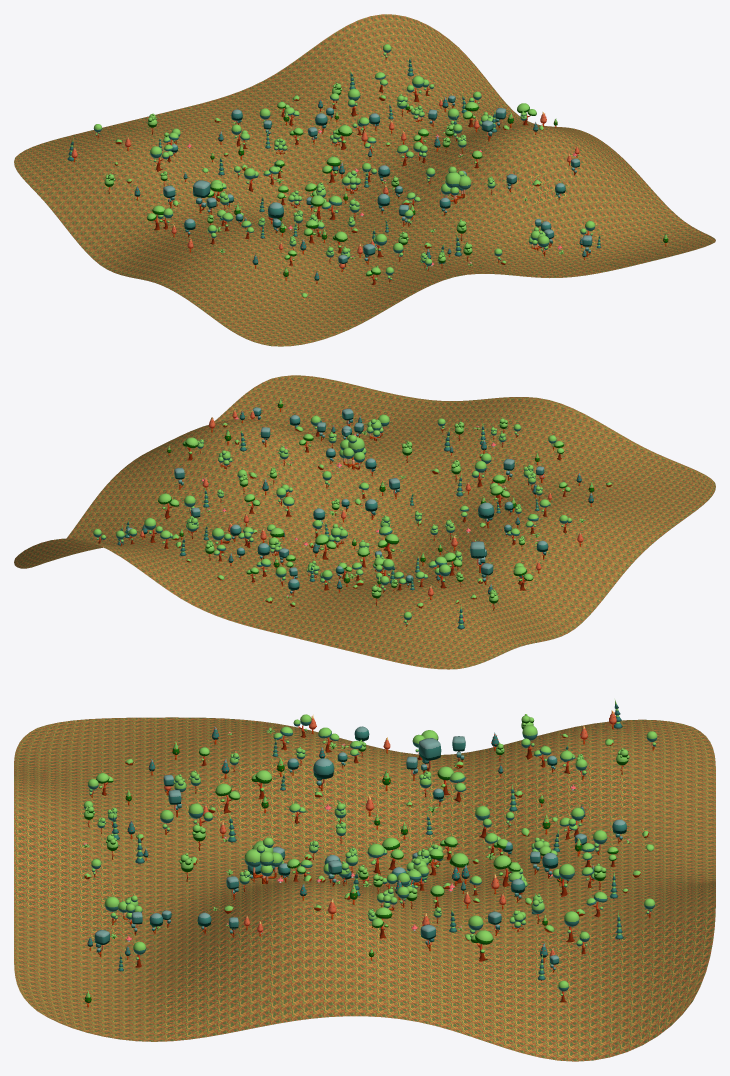
File: world3.glb
The picture shows the model from 3 angles, top to bottom: view 1: azimuth 30°, elevation 25°; view 2: azimuth 150°, elevation 25°; view 3: azimuth 270°, elevation 25°; orthographic projection. The views are drawn at different scales.
Visible parts, largest first — view 1: Plane, Tree.348; view 2: Plane, Tree.348; view 3: Plane, Tree.348.
Boxes of the visible parts, x1,y1,x2,y2 form: Plane: (14,14,715,346); Tree.348: (441,166,471,203); Plane: (14,375,715,669); Tree.348: (339,435,366,469); Plane: (14,717,715,1061); Tree.348: (244,837,282,883).
Size of the model in its own units: 347 by 67.7 by 347.
Materials: 2 (2 with a texture image).
